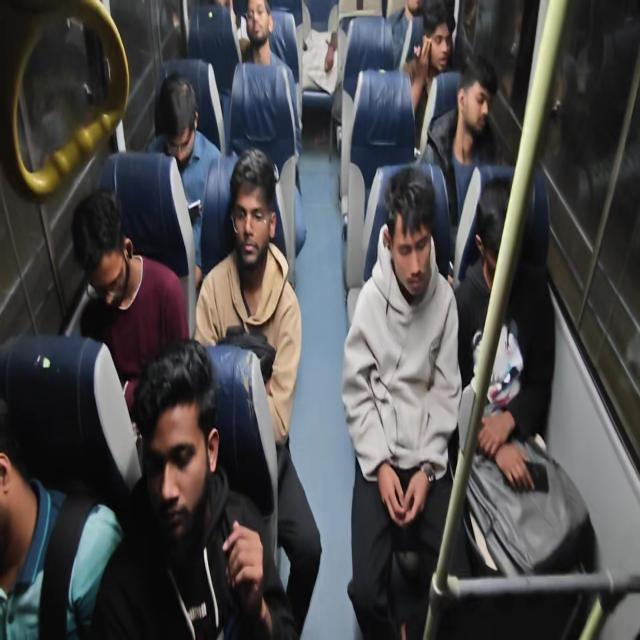person: (142, 360, 215, 560), (0, 386, 67, 586), (76, 196, 152, 366), (368, 178, 430, 317), (217, 145, 279, 275), (457, 194, 522, 297), (146, 46, 199, 150), (304, 19, 342, 131), (430, 18, 469, 87), (453, 67, 496, 128), (392, 4, 441, 56), (202, 1, 240, 54), (248, 0, 278, 64)
